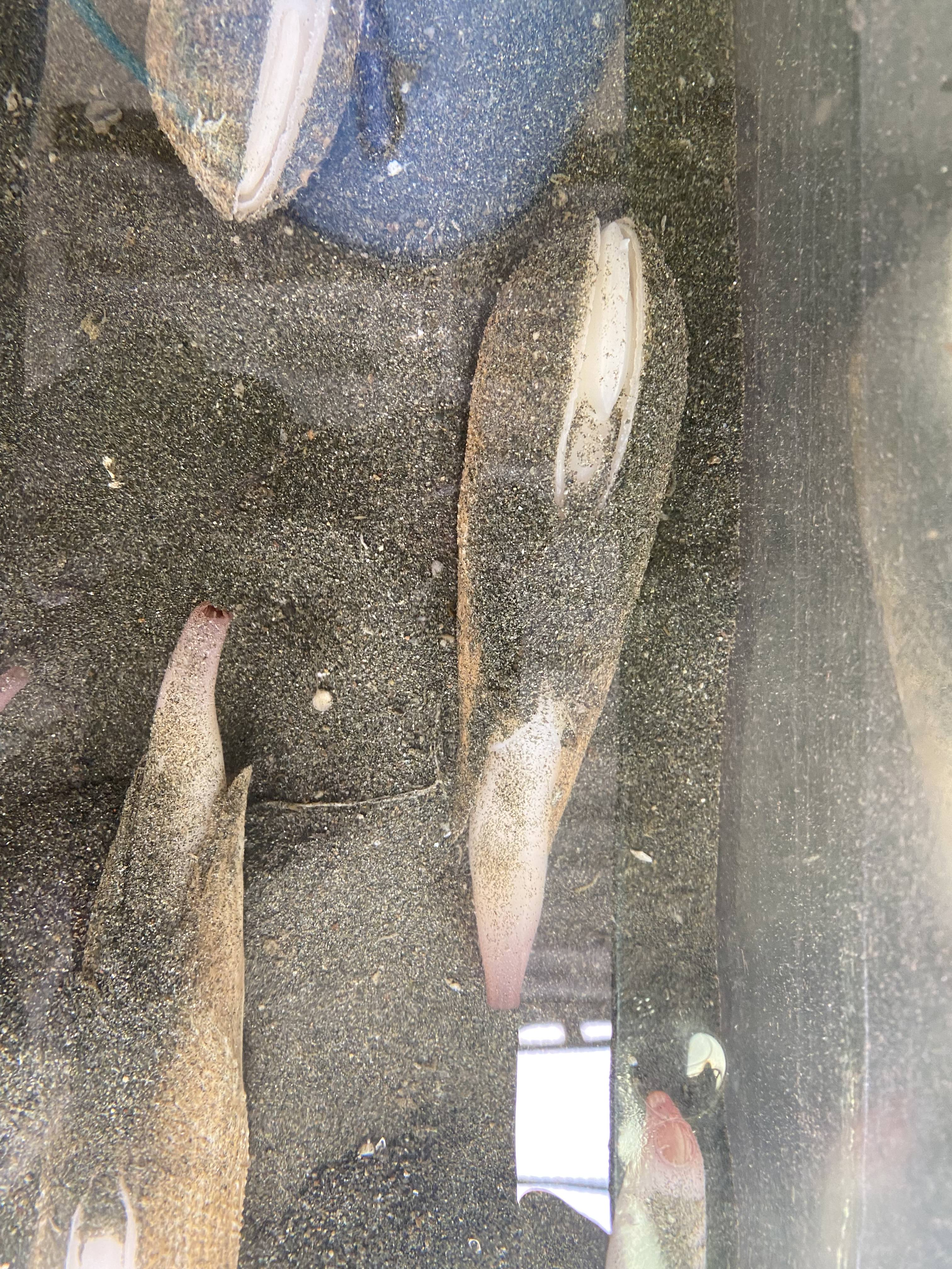Healthy: (458, 215, 680, 1008), (32, 602, 251, 1269), (606, 1091, 705, 1269)
